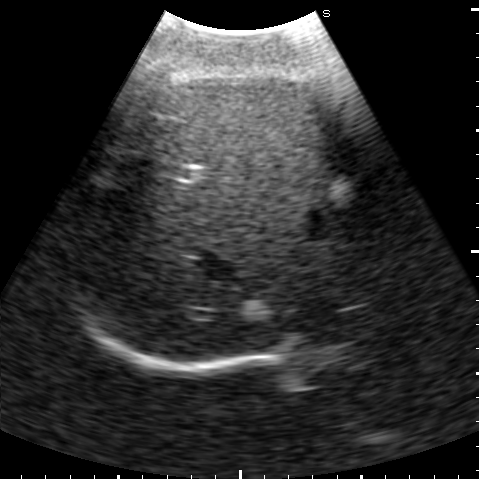S5: (132, 77, 337, 181)
S7: (61, 137, 176, 304)
S8: (116, 166, 387, 362)
Tumor: (241, 300, 272, 323), (327, 177, 351, 204)
